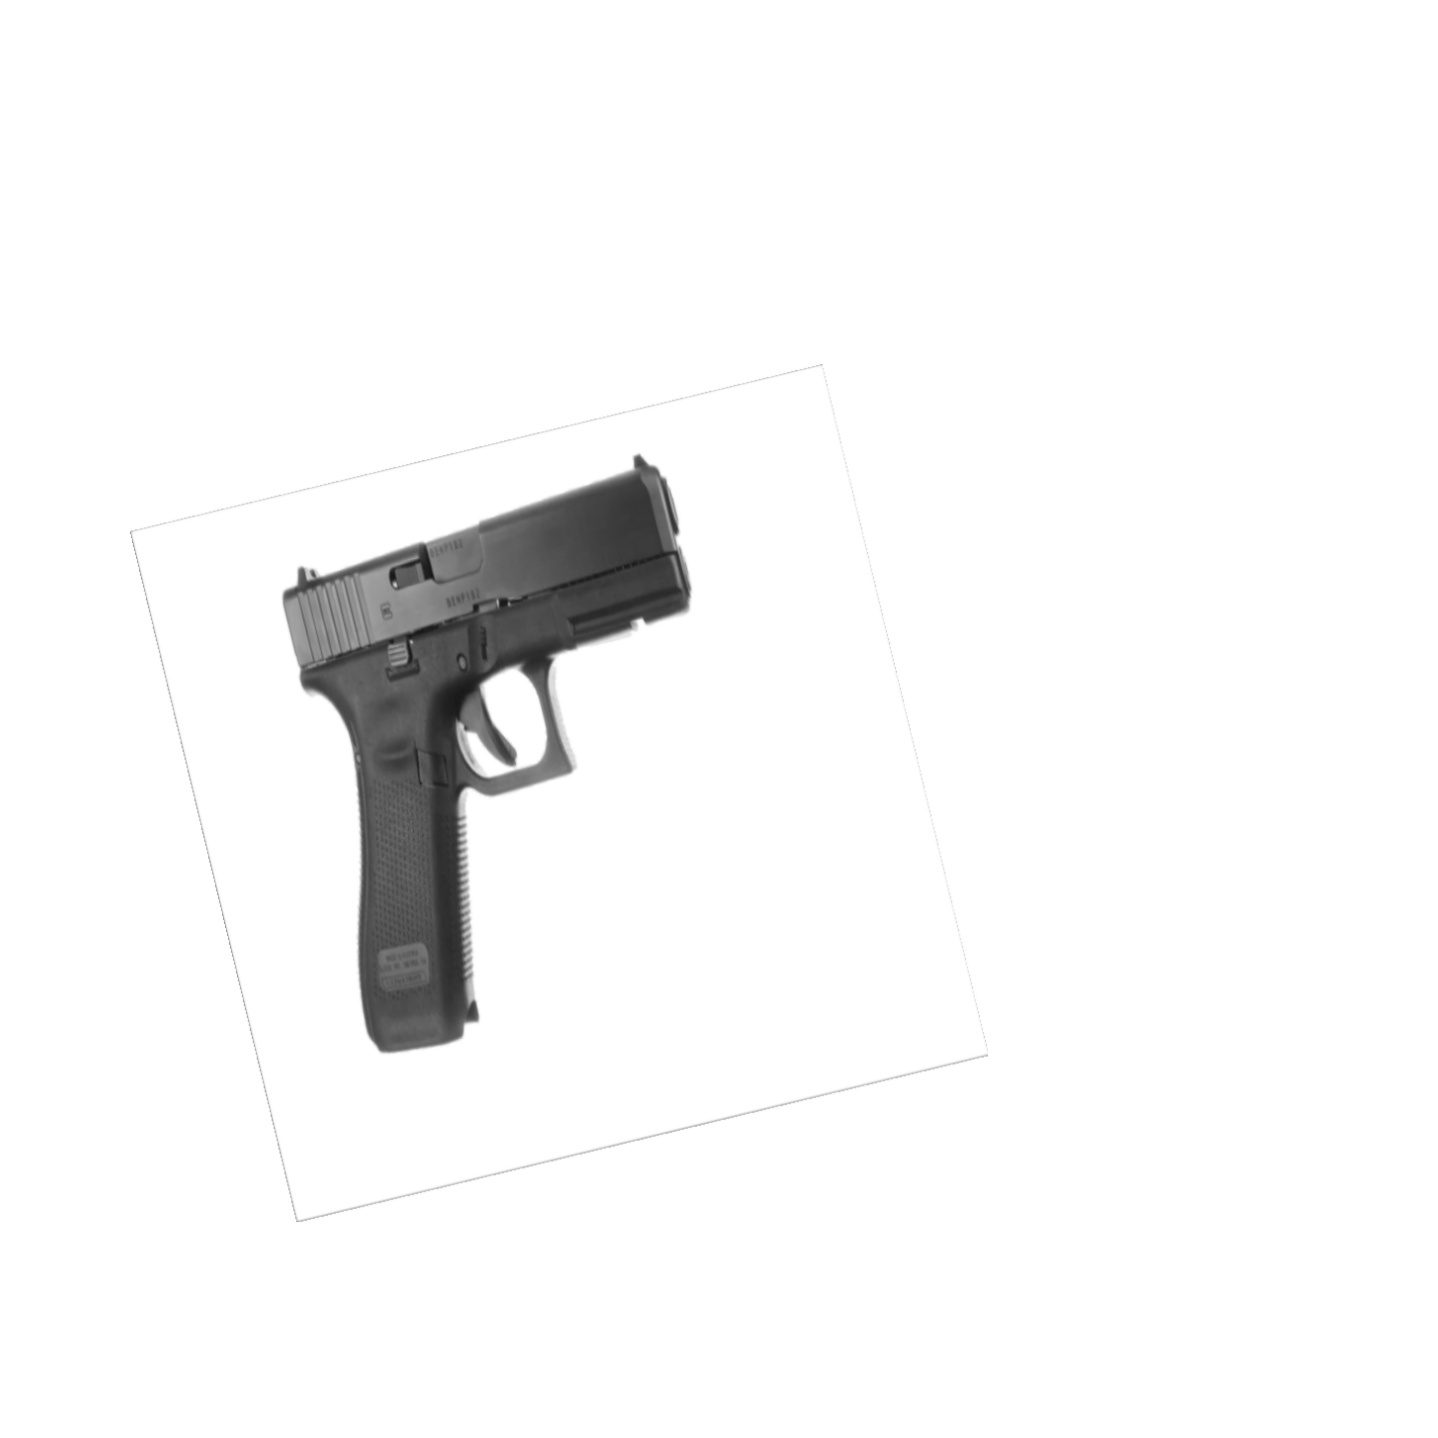gun: (277, 456, 710, 1061)
